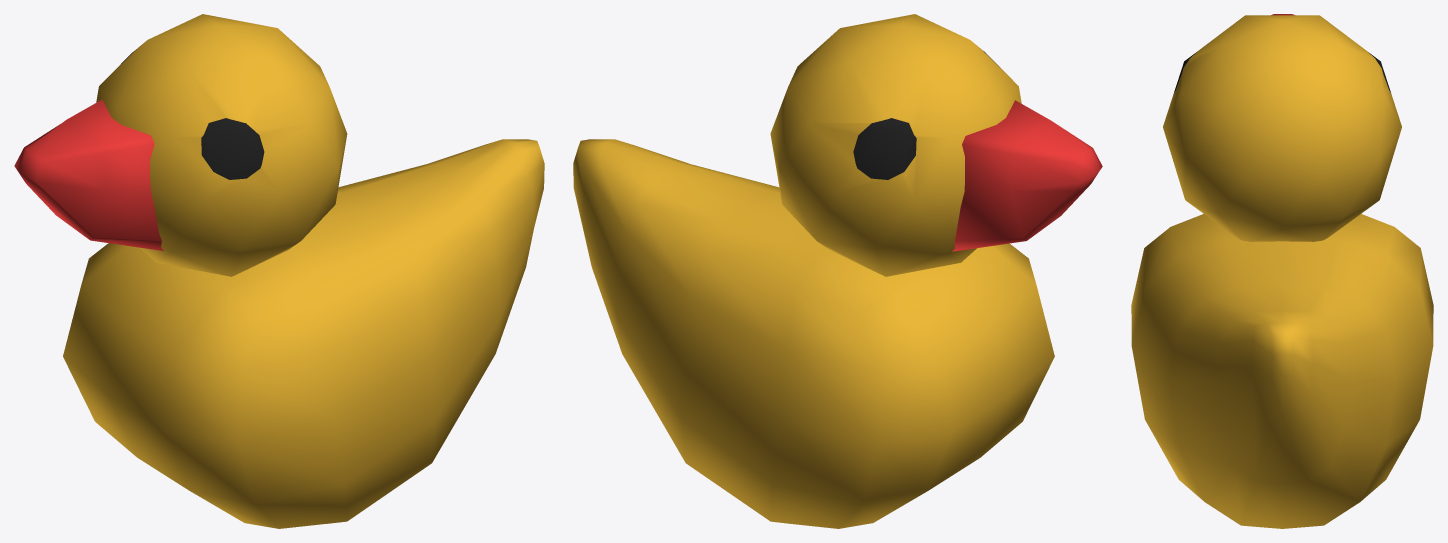
File: ordek.fbx
3 views of the same model, side by side, from view 1: azimuth 30°, elevation 25°; view 2: azimuth 150°, elevation 25°; view 3: azimuth 270°, elevation 25° (orthographic). The views are drawn at different scales.
Parts seen in each view (by area): view 1: ordek; view 2: ordek; view 3: ordek.
Part boxes in pixels (left/top/right/bottom): ordek: left=14, top=14, right=544, bottom=528; ordek: left=573, top=14, right=1102, bottom=528; ordek: left=1131, top=14, right=1433, bottom=528.
Size of the model in its own units: 275 by 251 by 152.
